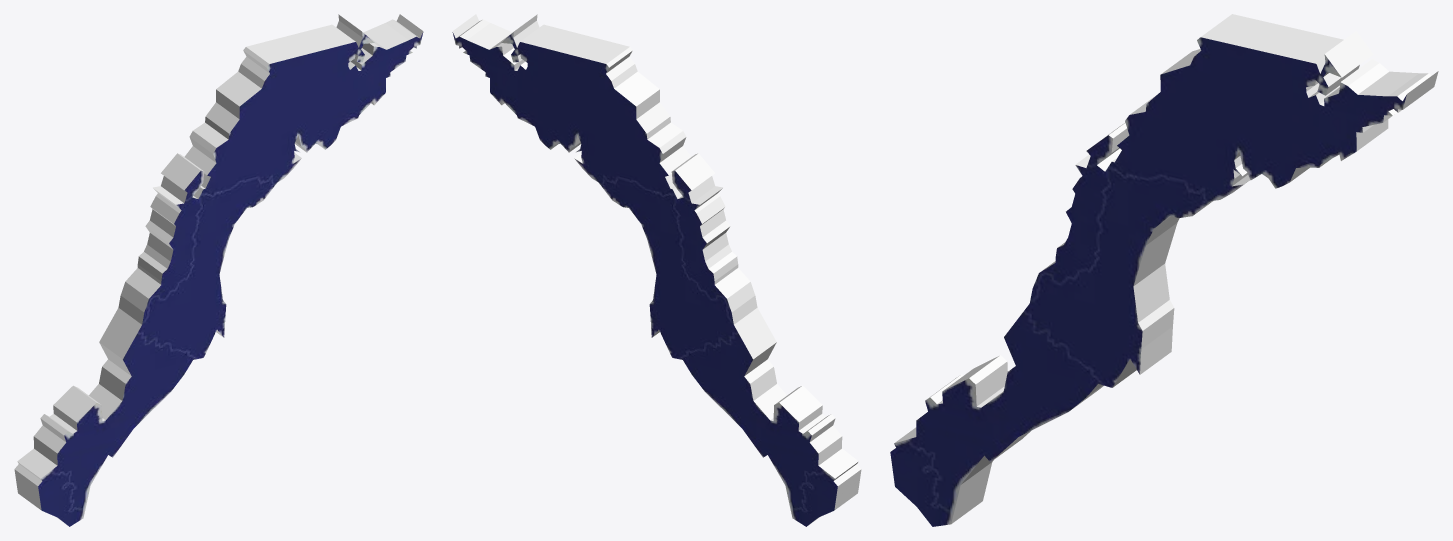
Rendered from baja_california_sur.glb.
The picture shows the model from 3 angles, left to right: view 1: azimuth 30°, elevation 25°; view 2: azimuth 150°, elevation 25°; view 3: azimuth 330°, elevation 25°; orthographic projection. The views are drawn at different scales.
Visible parts, largest first — view 1: Plano; view 2: Plano; view 3: Plano.
Boxes of the visible parts, x1,y1,x2,y2 form: Plano: (14, 14, 423, 526); Plano: (452, 14, 861, 526); Plano: (890, 14, 1438, 526).
Bounding box in the file's own units: 0.8788 × 0.924 × 0.0934.
Materials: 1 (1 with a texture image).
